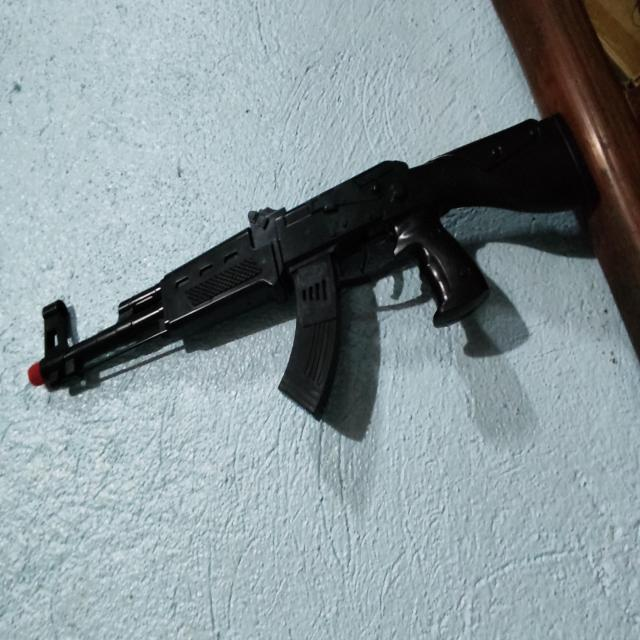rifle: (23, 98, 584, 446)
